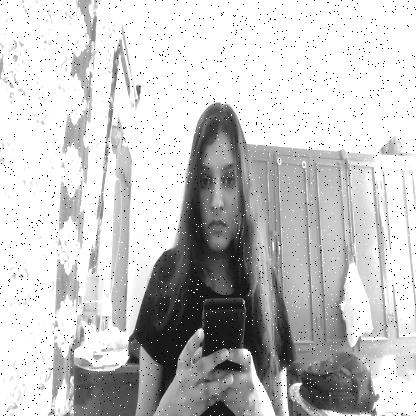Normal: (185, 101, 250, 259)
